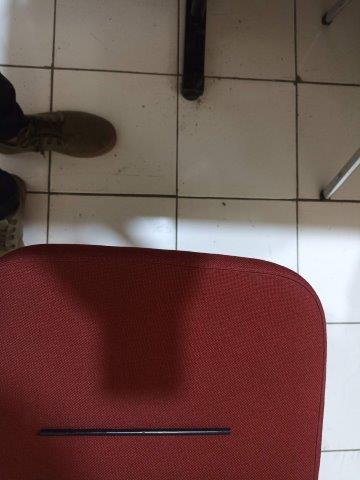sedotan: (39, 428, 231, 436)
